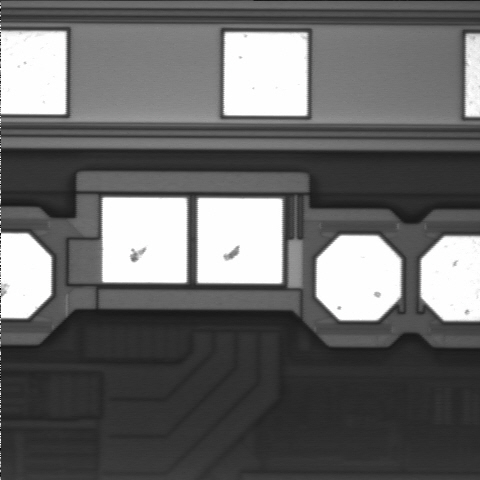pad: (102, 198, 187, 283), (198, 198, 282, 283), (317, 236, 401, 320), (224, 32, 307, 116)
